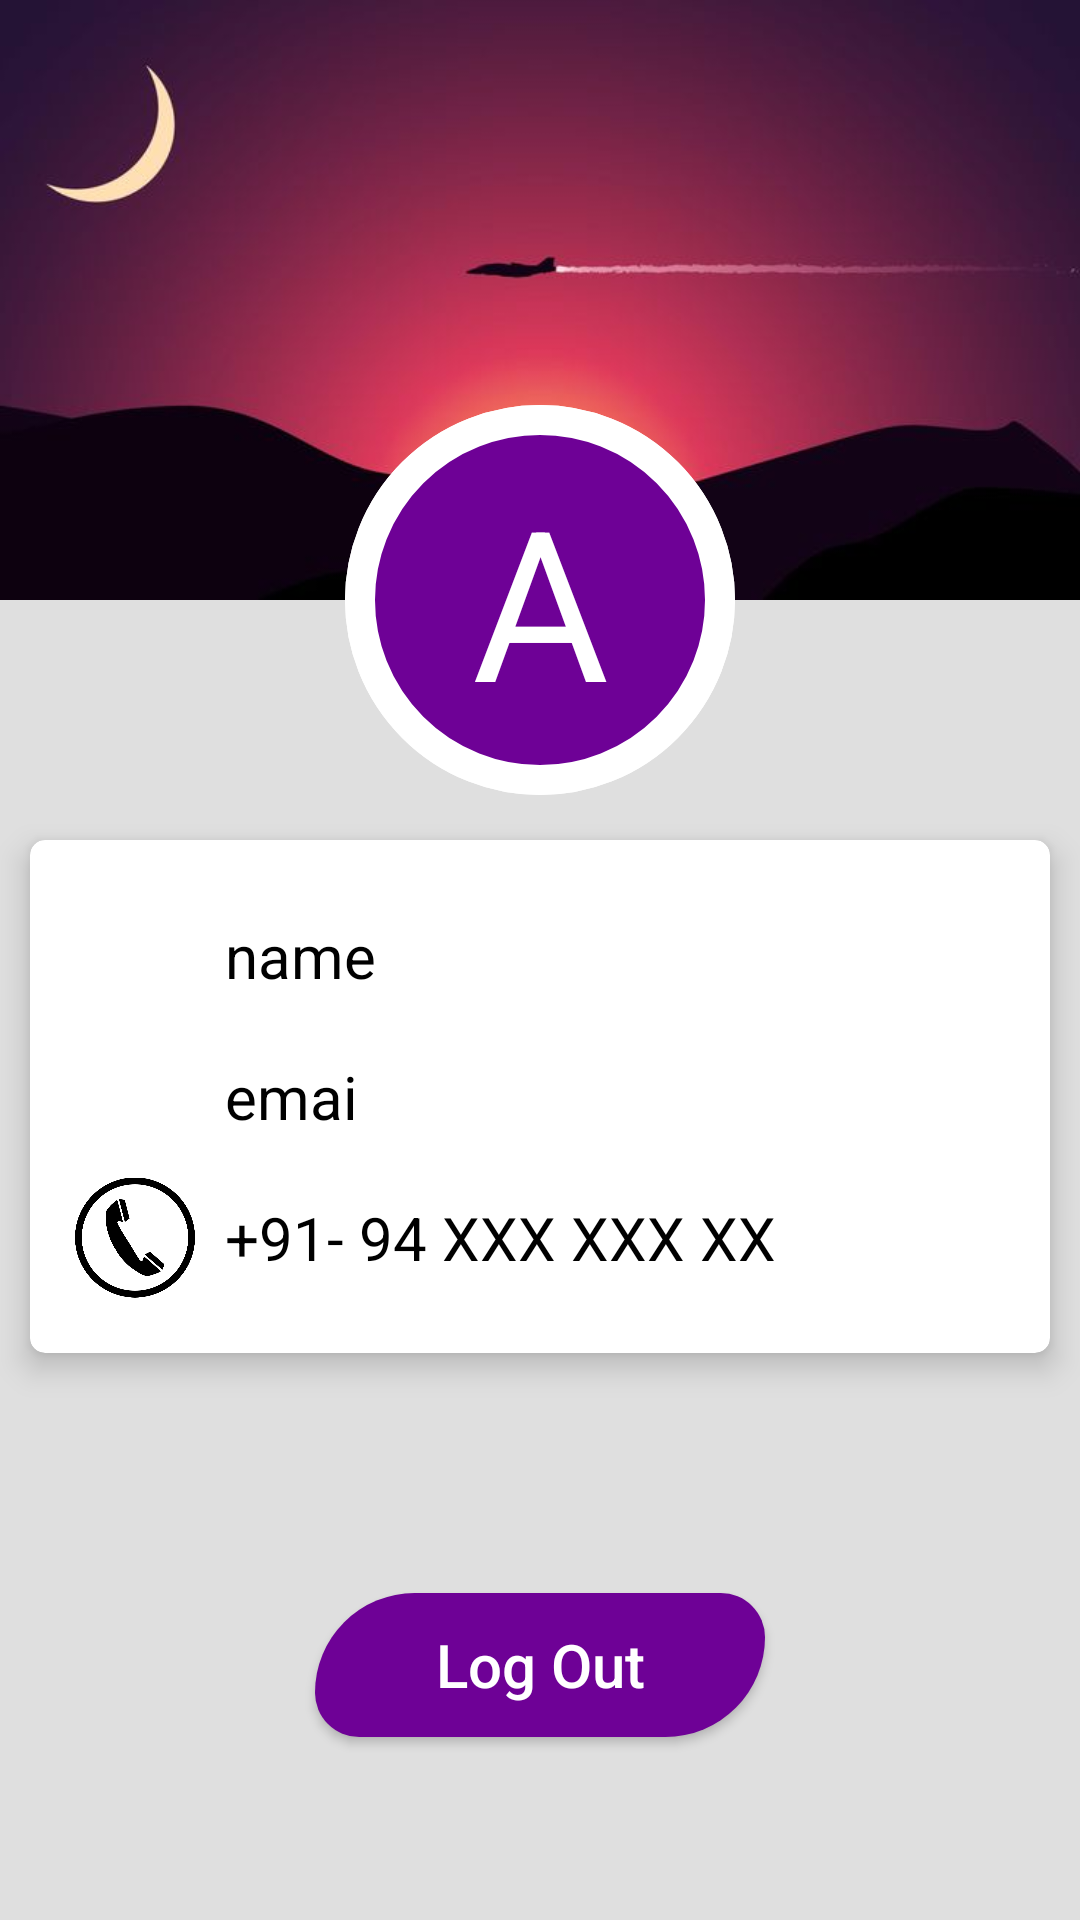

Where icons sit on this 1080w x 1920h app screen, as region(x1, y1, x2, y2):
phone: region(75, 1178, 195, 1298)
